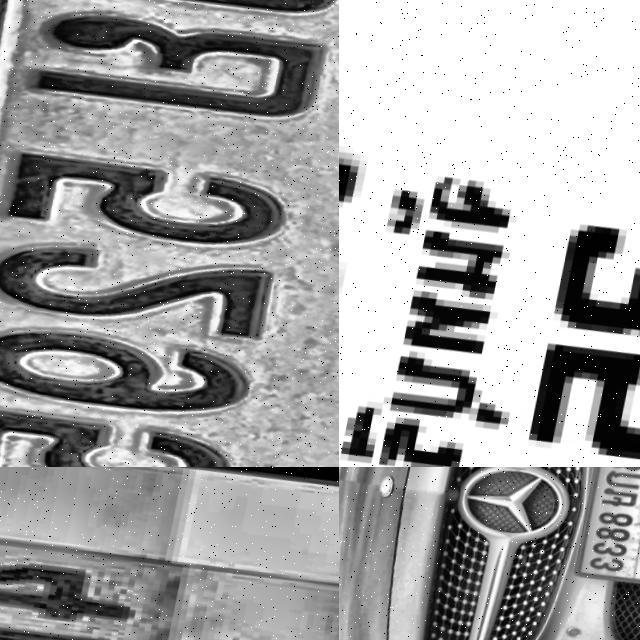license-plate: (0, 0, 339, 467), (339, 0, 640, 467), (0, 467, 339, 640), (567, 467, 640, 597)
